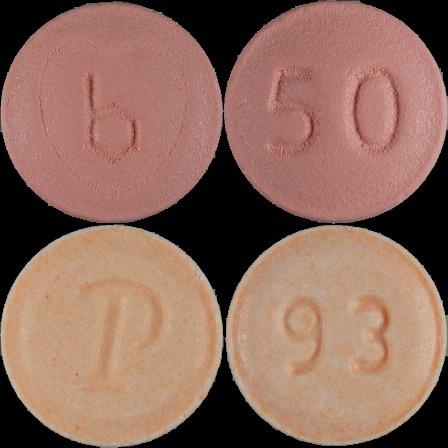51285-050: (0, 0, 224, 224)
